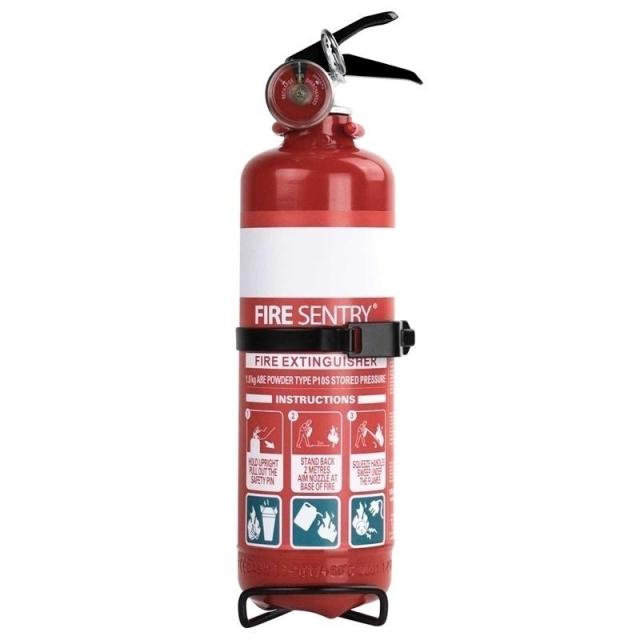fire_extinguisher: (228, 7, 426, 619)
